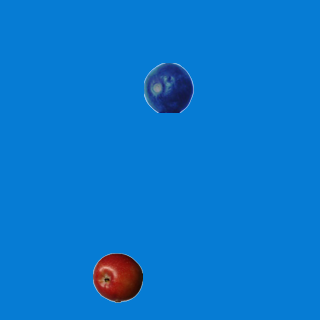Apple Braeburn: (92, 252, 142, 302)
Huckleberry: (143, 62, 193, 112)
